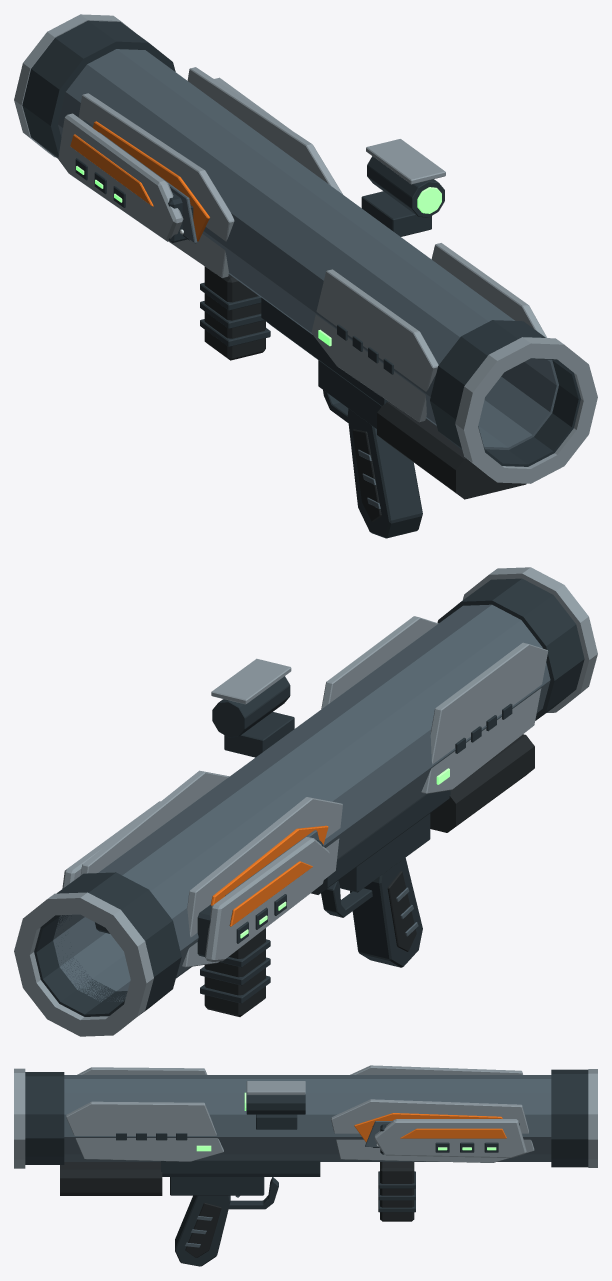
The model's file is rpg.glb.
3 renders of one model, top to bottom at view 1: azimuth 30°, elevation 25°; view 2: azimuth 150°, elevation 25°; view 3: azimuth 270°, elevation 25°, orthographic. The views are drawn at different scales.
Parts seen in each view (by area): view 1: Body | 02 | machined edge metal, Body | 01 | ceramic gray receiver, Body | 03 | graphite steel, Body | 05 | charcoal grip polymer, Body | 04 | burnt orange enamel, Body | 06 | lime status emitters; view 2: Body | 02 | machined edge metal, Body | 01 | ceramic gray receiver, Body | 03 | graphite steel, Body | 05 | charcoal grip polymer, Body | 04 | burnt orange enamel; view 3: Body | 02 | machined edge metal, Body | 01 | ceramic gray receiver, Body | 03 | graphite steel, Body | 05 | charcoal grip polymer, Body | 04 | burnt orange enamel.
Boxes of the visible parts, box(x1,y1,x2,y2) form: Body | 02 | machined edge metal: box(58, 49, 558, 509); Body | 01 | ceramic gray receiver: box(14, 14, 597, 483); Body | 03 | graphite steel: box(22, 20, 580, 538); Body | 05 | charcoal grip polymer: box(204, 266, 526, 521); Body | 04 | burnt orange enamel: box(70, 121, 209, 241); Body | 06 | lime status emitters: box(76, 166, 441, 346); Body | 02 | machined edge metal: box(53, 604, 550, 1001); Body | 01 | ceramic gray receiver: box(14, 567, 597, 1036); Body | 03 | graphite steel: box(34, 578, 584, 1016); Body | 05 | charcoal grip polymer: box(204, 734, 534, 1016); Body | 04 | burnt orange enamel: box(210, 825, 328, 926); Body | 02 | machined edge metal: box(64, 1075, 551, 1247); Body | 01 | ceramic gray receiver: box(14, 1065, 597, 1168); Body | 03 | graphite steel: box(25, 1069, 588, 1266); Body | 05 | charcoal grip polymer: box(60, 1162, 414, 1257); Body | 04 | burnt orange enamel: box(354, 1113, 506, 1142).
Size of the model in its own units: 0.2255 by 0.3736 by 0.9892.
